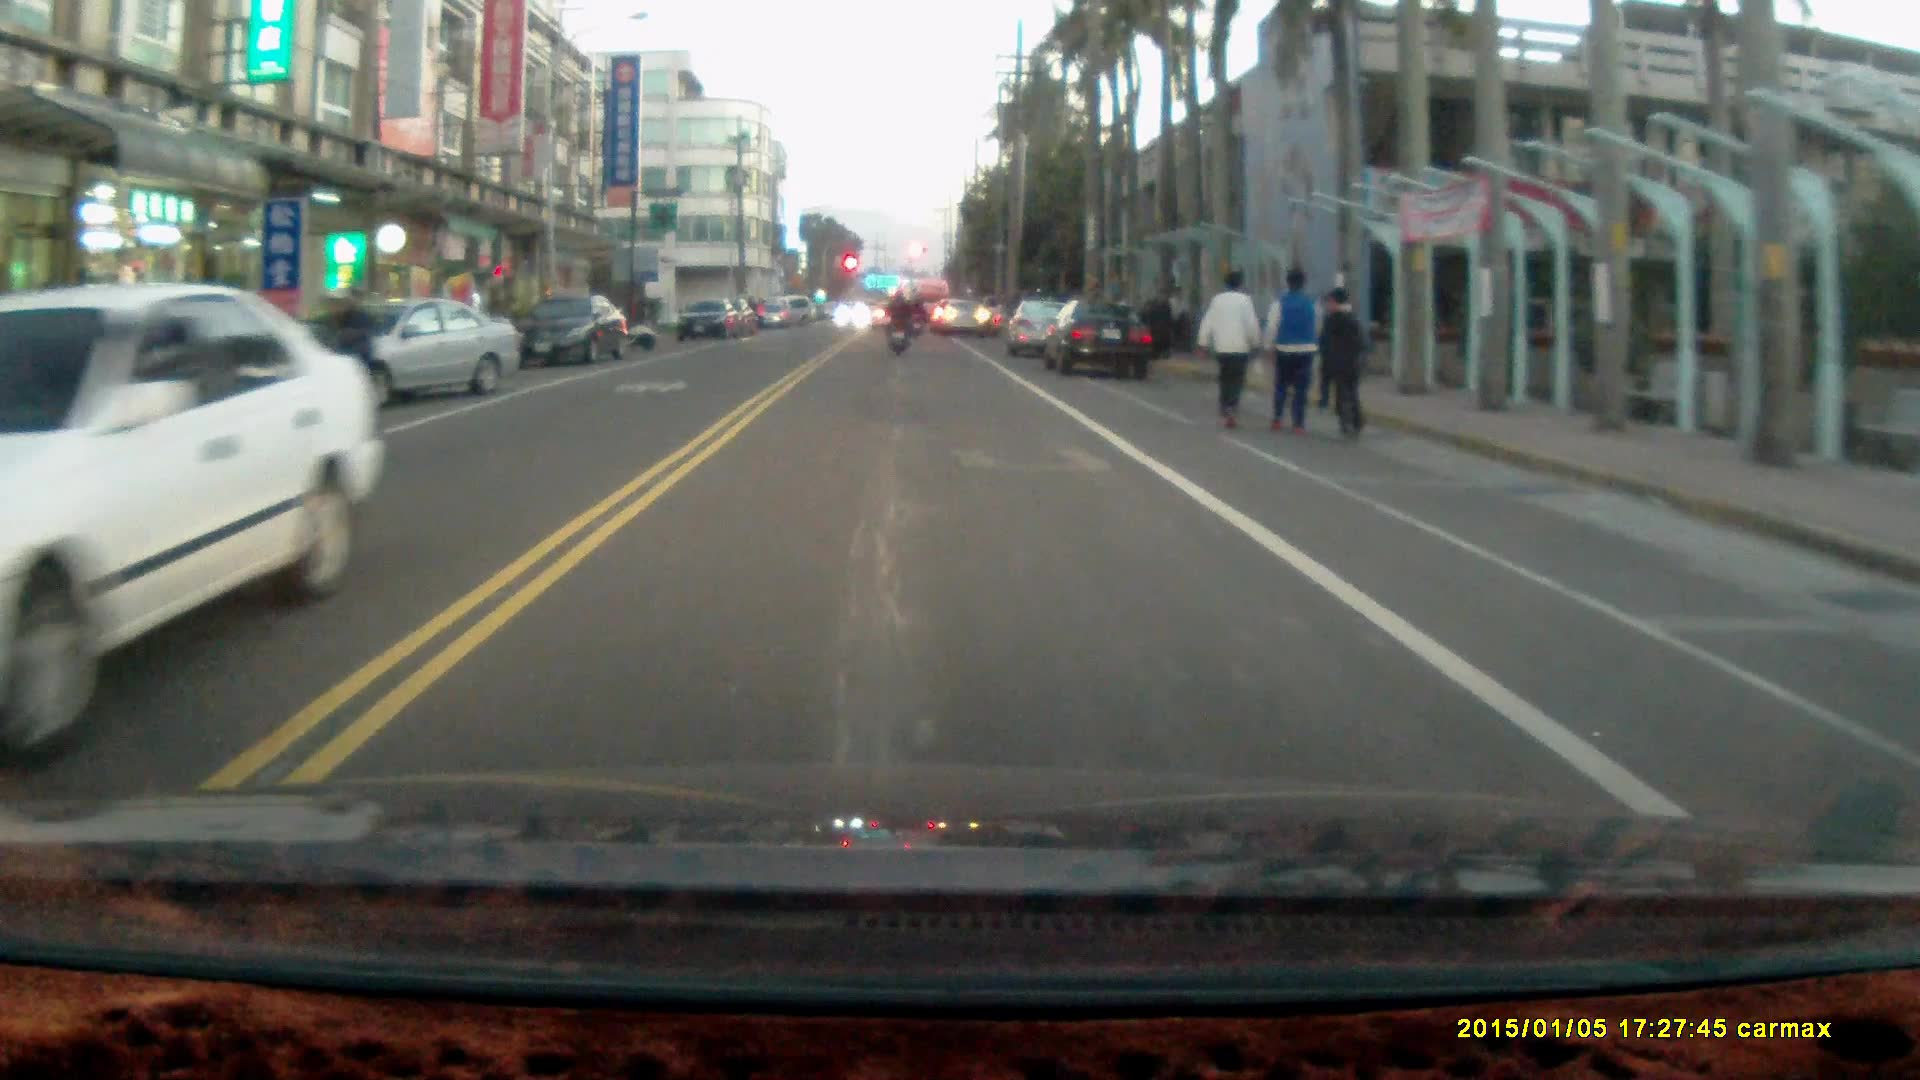pedestrian: (1197, 265, 1263, 431), (1261, 266, 1323, 438), (1316, 288, 1368, 444)
rider: (285, 284, 383, 472), (883, 285, 914, 356)
vehicle: (1, 288, 395, 770), (323, 299, 525, 406), (1044, 297, 1159, 380), (519, 294, 629, 370), (1009, 301, 1089, 362), (675, 299, 744, 343)
